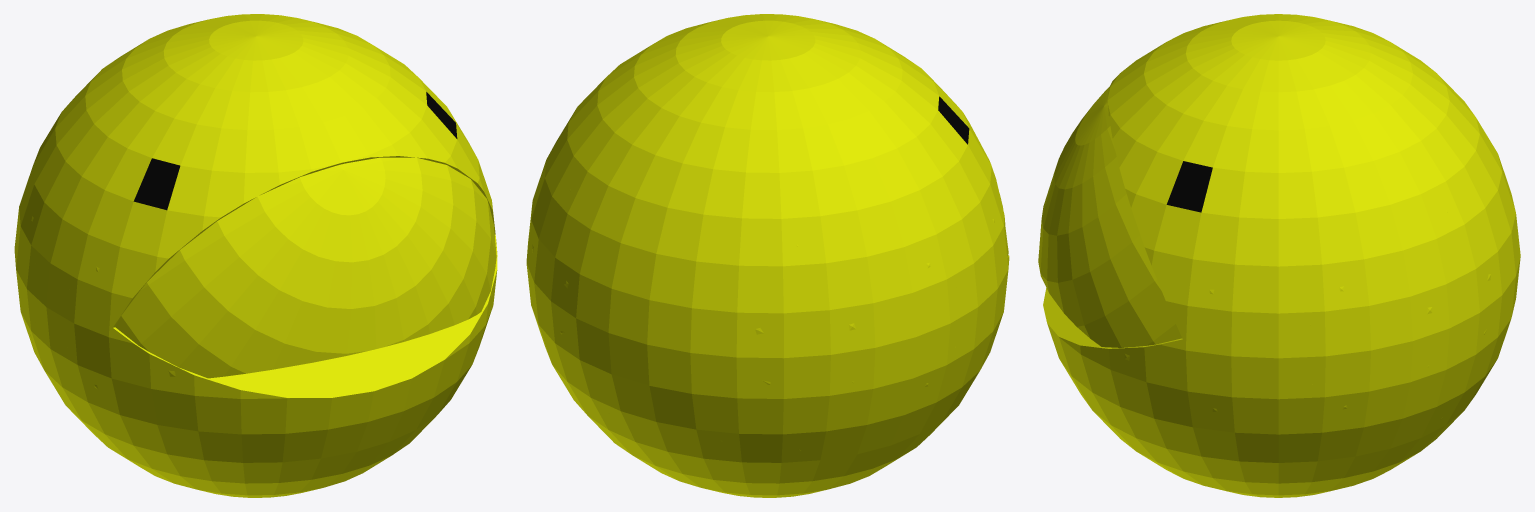
File: Pacman.fbx
3 views of the same model, side by side, from view 1: azimuth 30°, elevation 25°; view 2: azimuth 150°, elevation 25°; view 3: azimuth 270°, elevation 25° (orthographic).
Parts seen in each view (by area): view 1: Sphere, Sphere.001; view 2: Sphere; view 3: Sphere, Sphere.001.
Part boxes in pixels (box(x1,y1,x2,y2)): Sphere: box(14, 14, 497, 497); Sphere.001: box(30, 157, 496, 388); Sphere: box(526, 14, 1009, 497); Sphere: box(1043, 14, 1520, 497); Sphere.001: box(1038, 87, 1490, 419).
Bounding box in the file's own units: 200 × 200 × 199.
